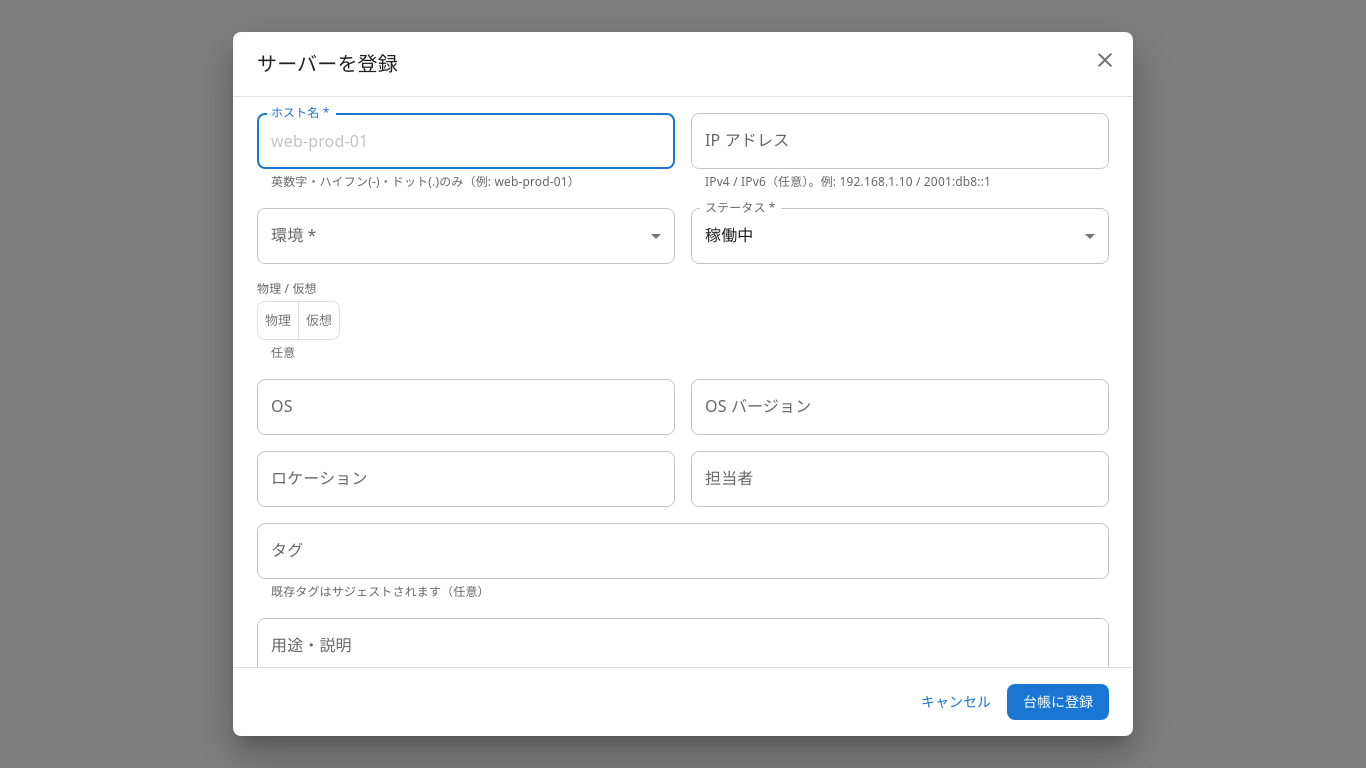
Test: ServerFormModal (create) › 400 errors[] の field を該当フィールドへ反映する
The width and height of the screenshot is (1366, 768).
Type "web-01" into the field labelled "ホスト名 *" at [466, 141], box [257,113,675,169]
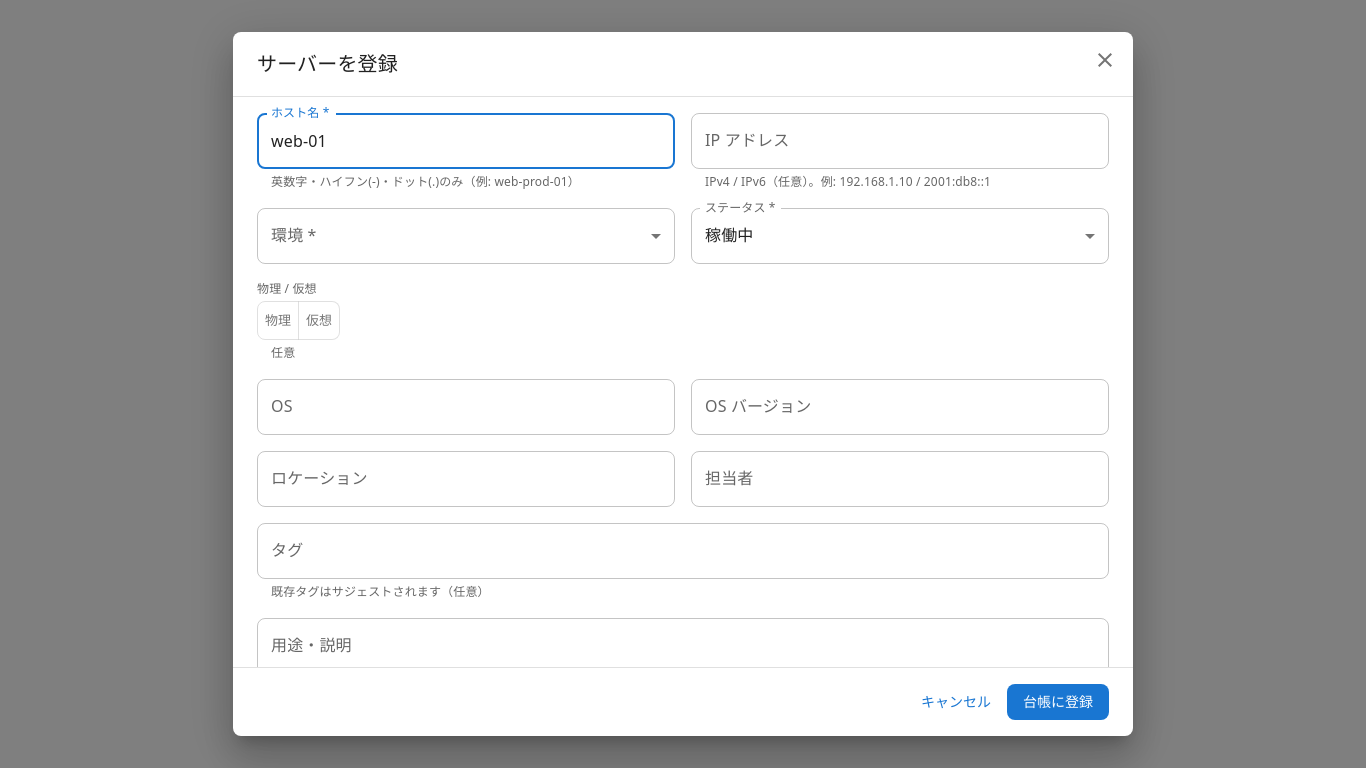
Click the dropdown named "環境 *" at [466, 236], box [257,208,675,264]
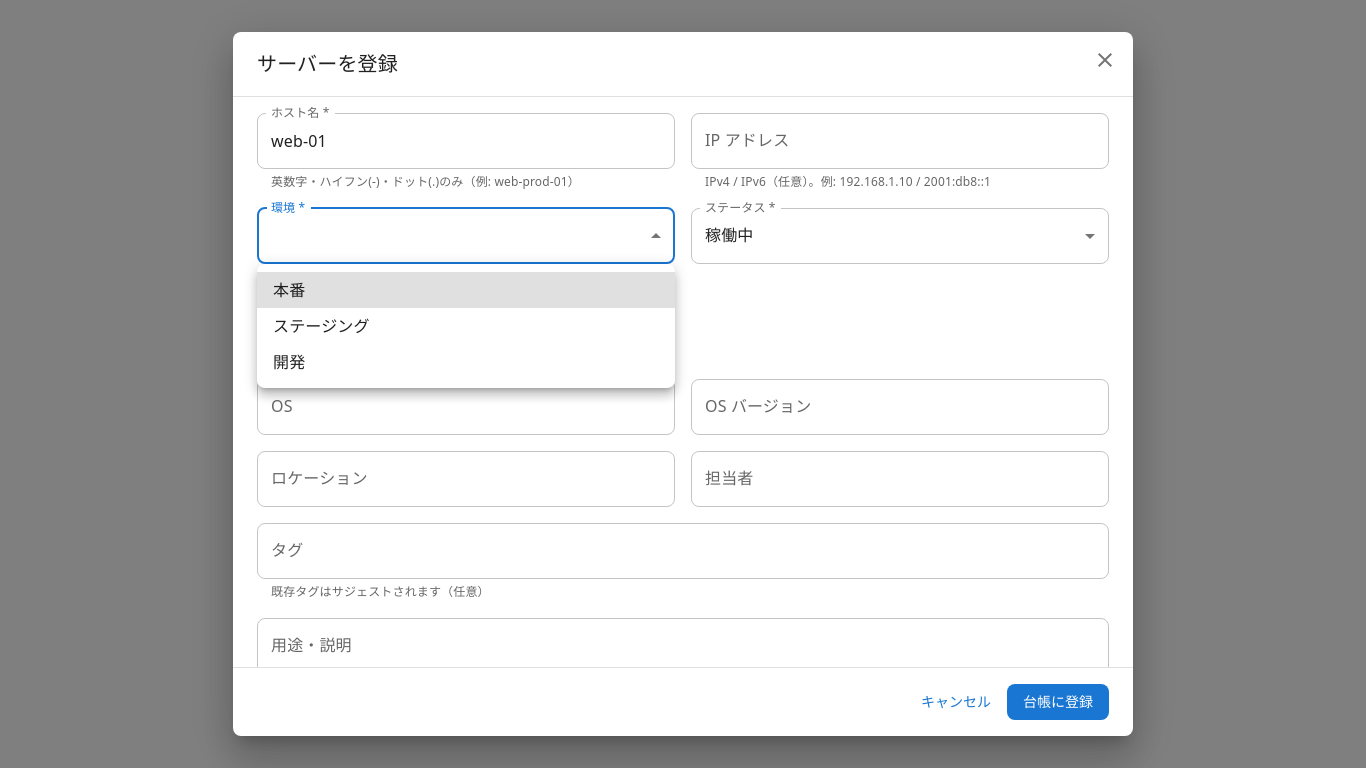
Click the option "本番" at [289, 290], box [257,272,675,308]
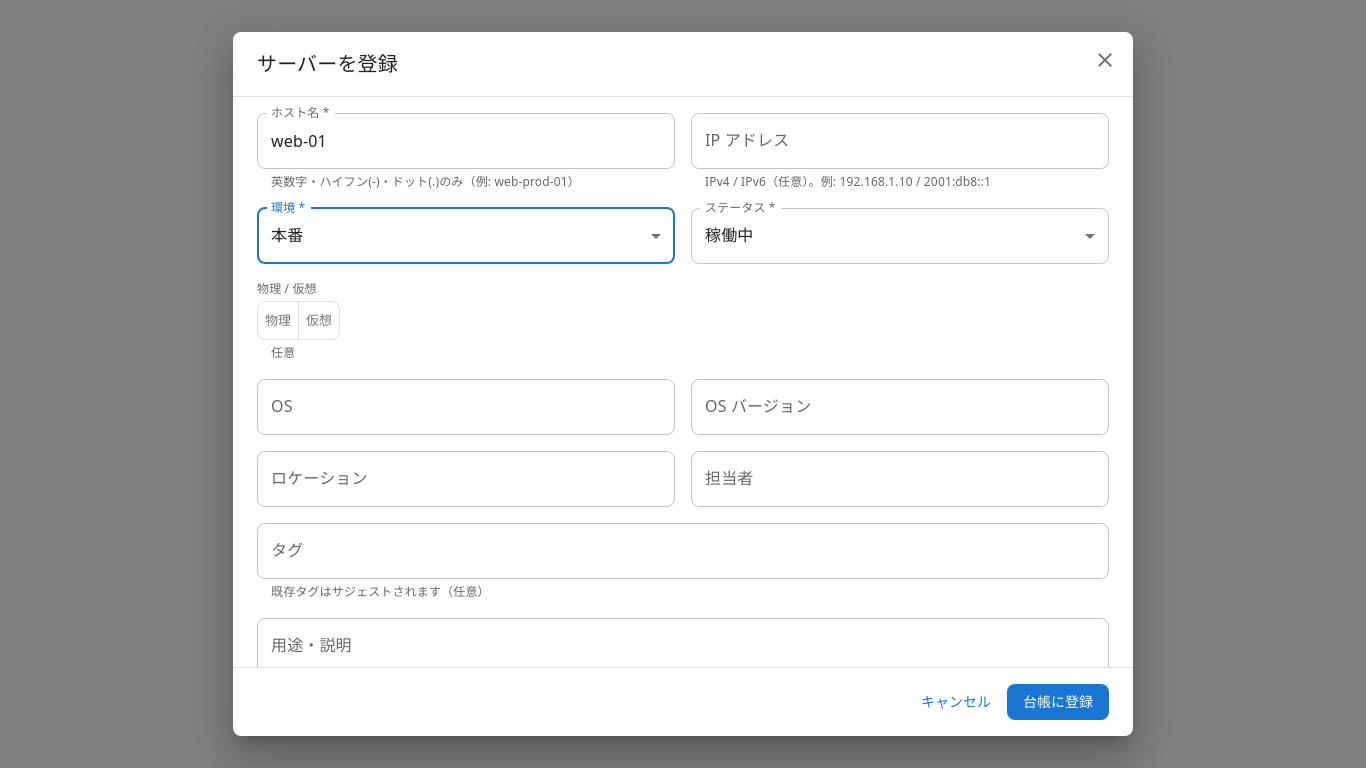
Click the button "台帳に登録" at [1058, 702], box [1007,684,1109,720]
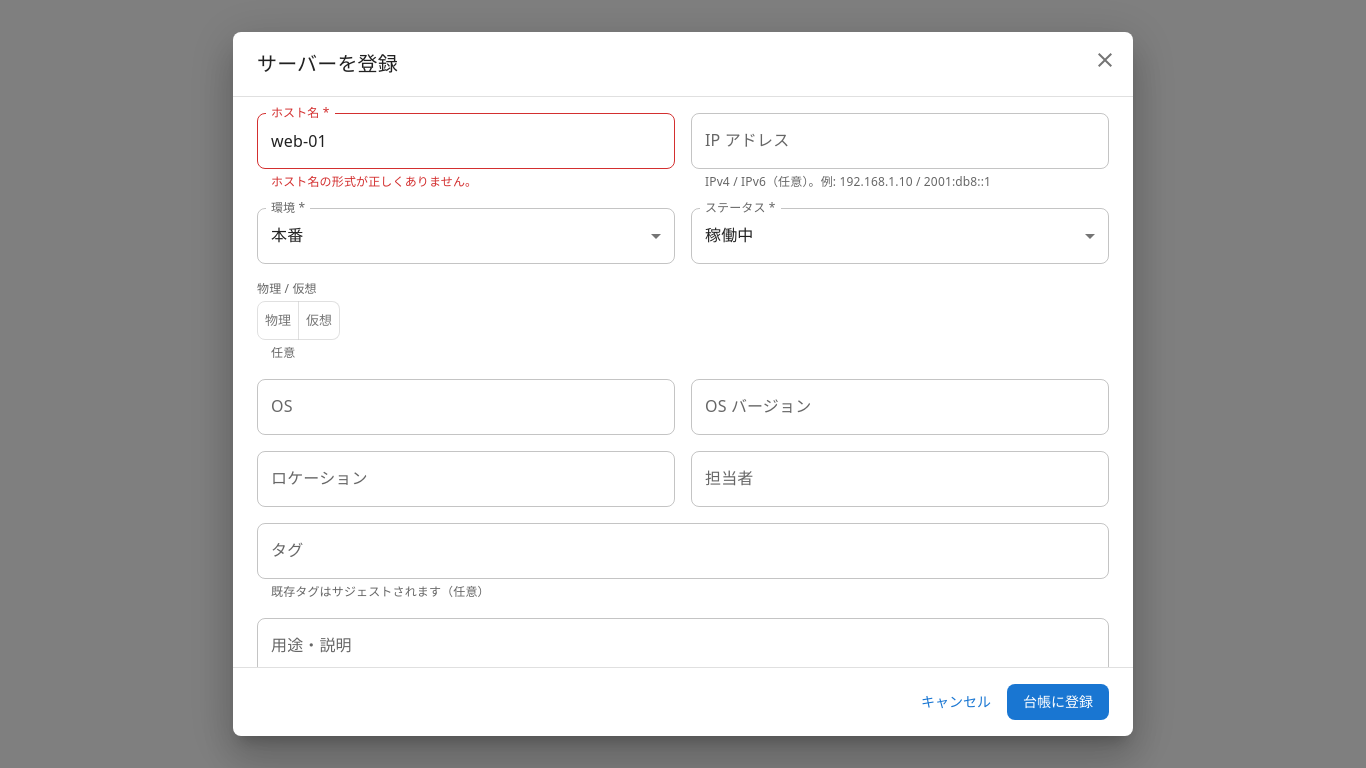
Check: the text "ホスト名の形式が正しくありません。" is shown, box [271,173,477,190]
